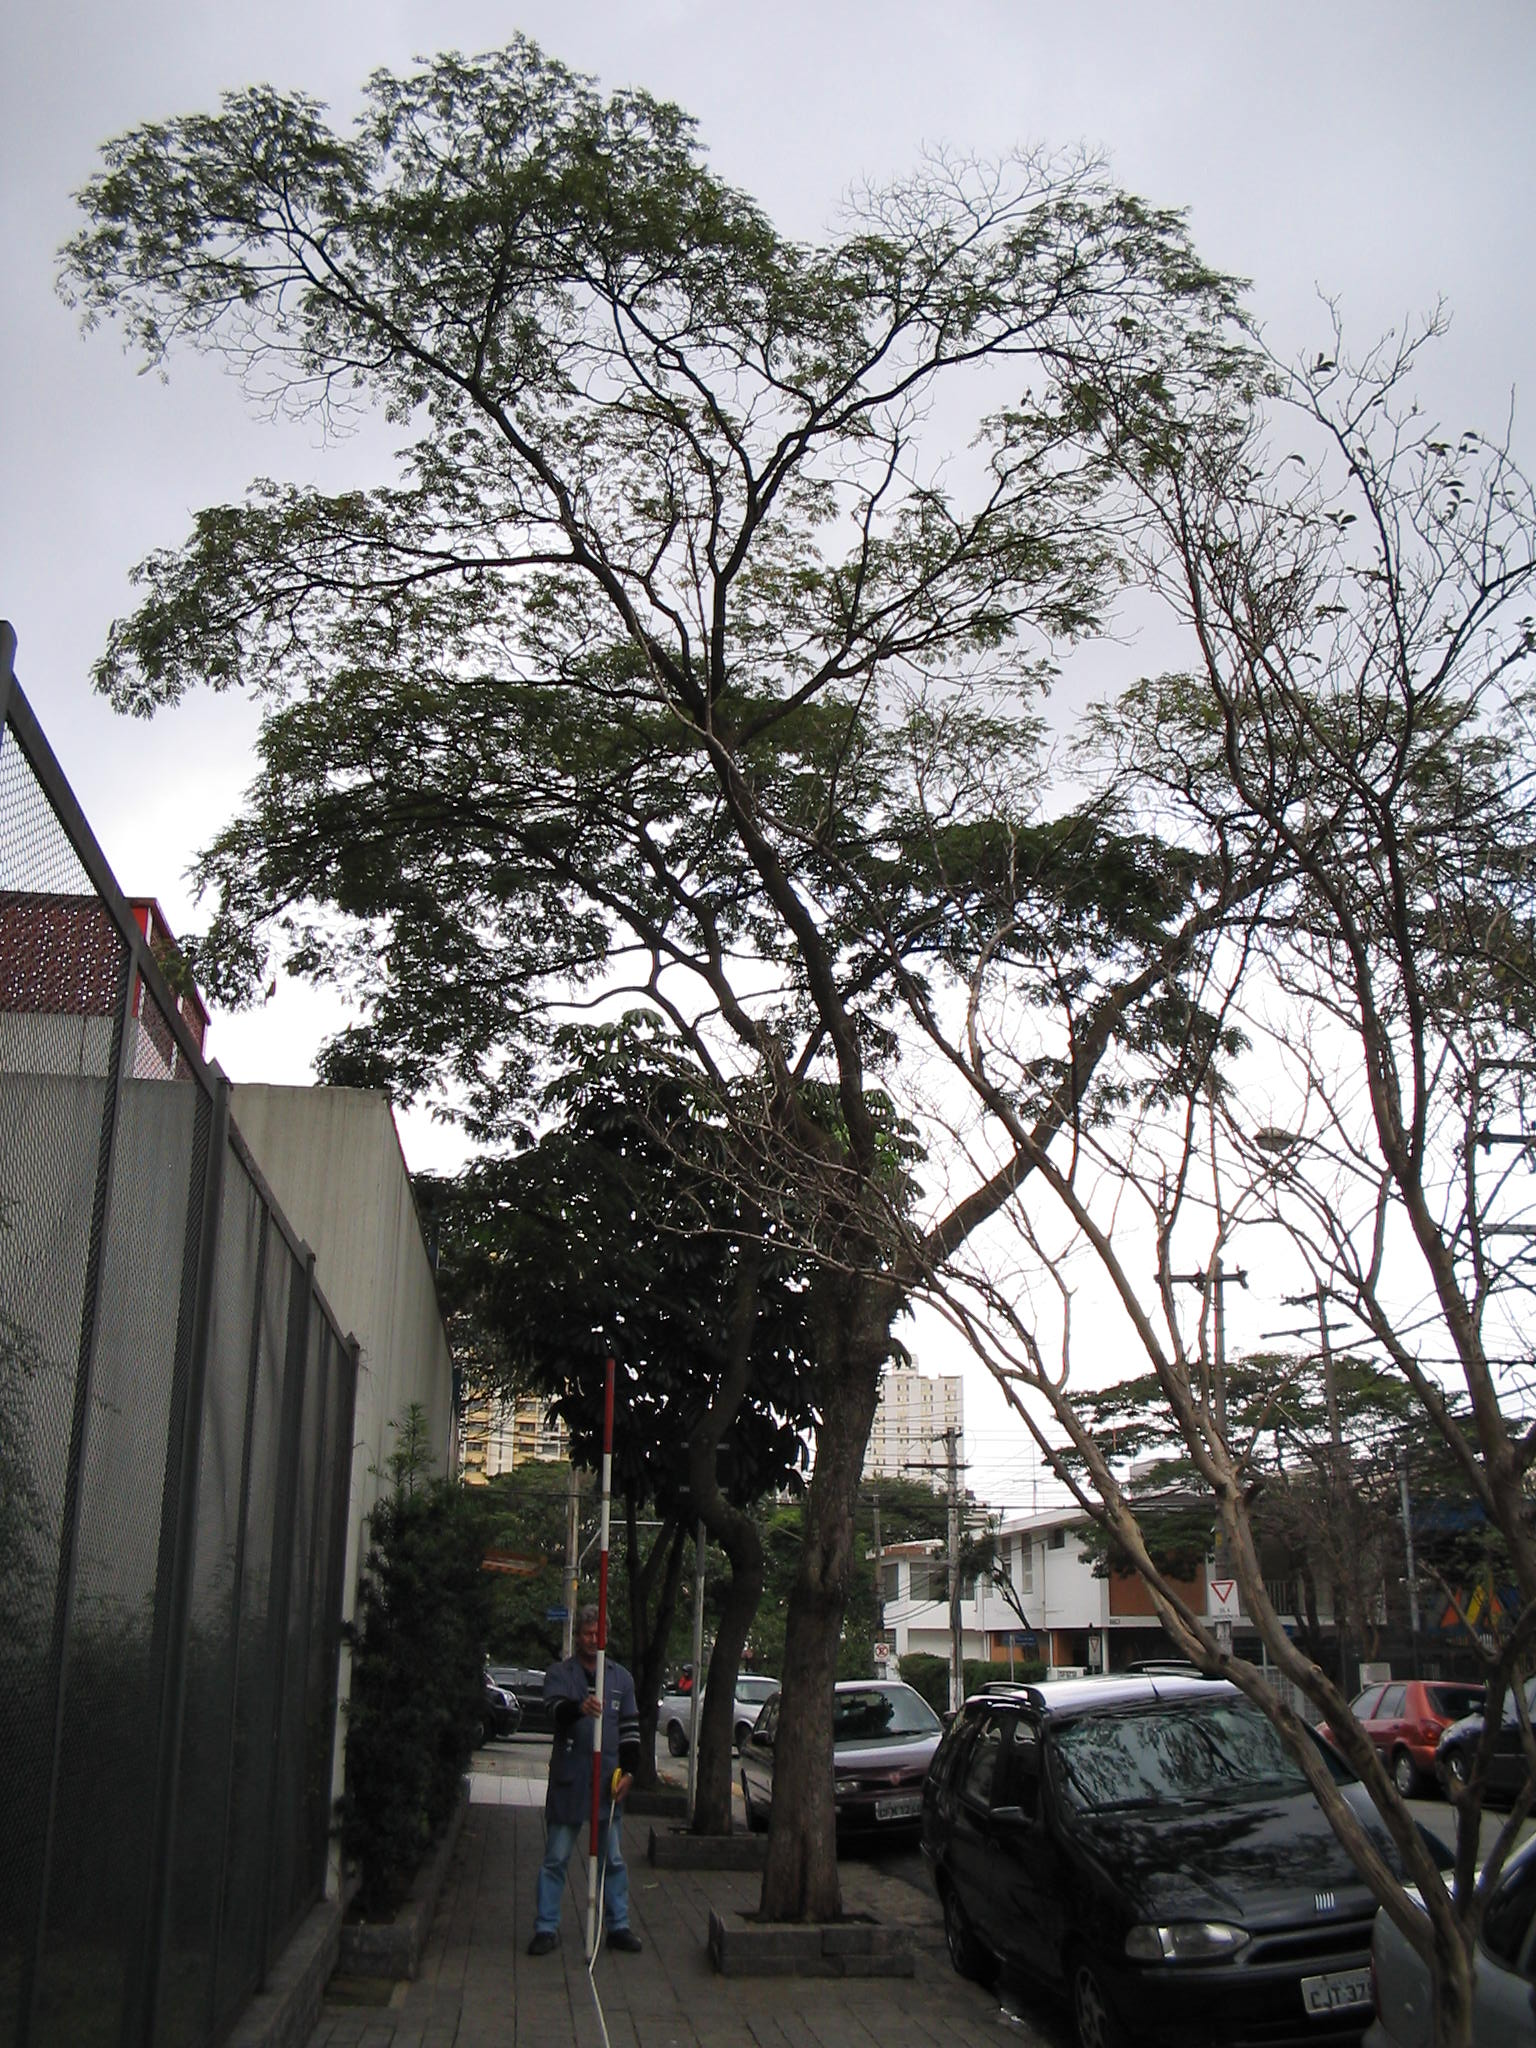crown: (61, 48, 1526, 1109)
stem: (758, 1590, 870, 1940)
stick: (570, 1356, 628, 1956)
tree: (45, 31, 1536, 1932)
